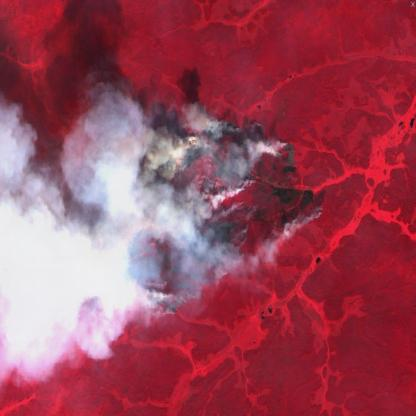fire: (81, 113, 327, 320)
